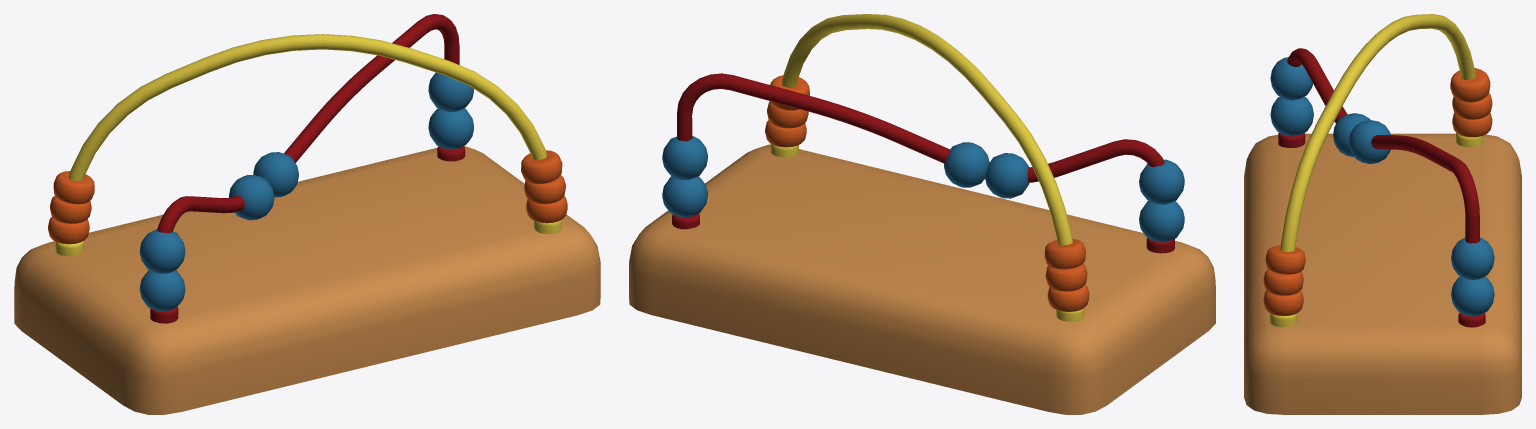
Rendered from Wired_Bead_Maze.fbx.
The picture shows the model from 3 angles, left to right: view 1: azimuth 30°, elevation 25°; view 2: azimuth 150°, elevation 25°; view 3: azimuth 270°, elevation 25°; orthographic projection. The views are drawn at different scales.
Visible parts, largest first — view 1: Wired_Bead_Maze; view 2: Wired_Bead_Maze; view 3: Wired_Bead_Maze.
Boxes of the visible parts, x1=… form: Wired_Bead_Maze: x1=14, y1=14, x2=600, y2=414; Wired_Bead_Maze: x1=629, y1=14, x2=1215, y2=414; Wired_Bead_Maze: x1=1244, y1=14, x2=1521, y2=414.
Size of the model in its own units: 65.59 by 37.01 by 34.84.
